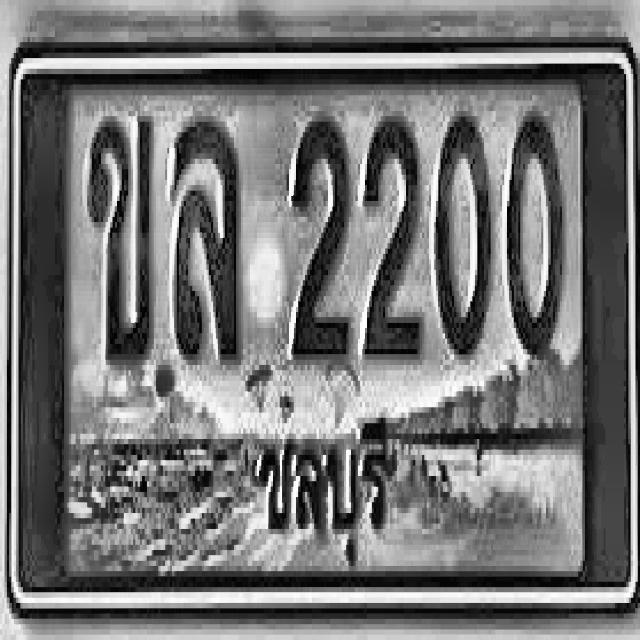license-plate: (5, 31, 640, 625)
